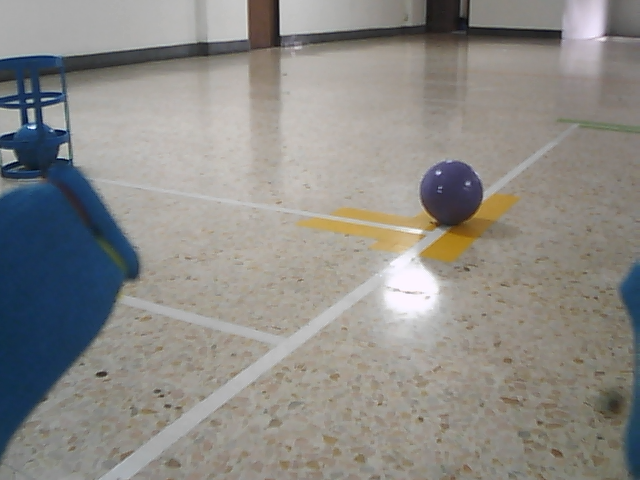Blue ball: (13, 121, 59, 171)
Cyro: (1, 51, 76, 182)
Purple ball: (418, 158, 486, 227)
